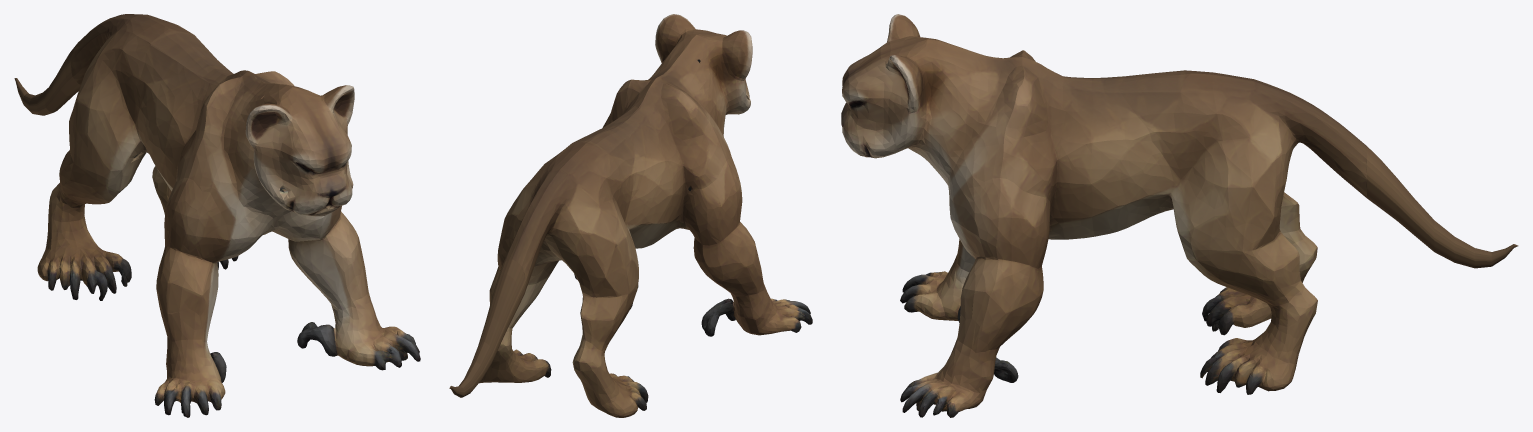
3 views of the same model, side by side, from view 1: azimuth 30°, elevation 25°; view 2: azimuth 150°, elevation 25°; view 3: azimuth 270°, elevation 25° (orthographic). The views are drawn at different scales.
Parts seen in each view (by area): view 1: world; view 2: world; view 3: world.
Boxes of the visible parts, x1,y1,x2,y2 form: world: (14,14,420,417); world: (449,14,812,417); world: (841,14,1518,417).
Size of the model in its own units: 0.4665 by 0.5242 by 1.
2 materials, 2 textured.
